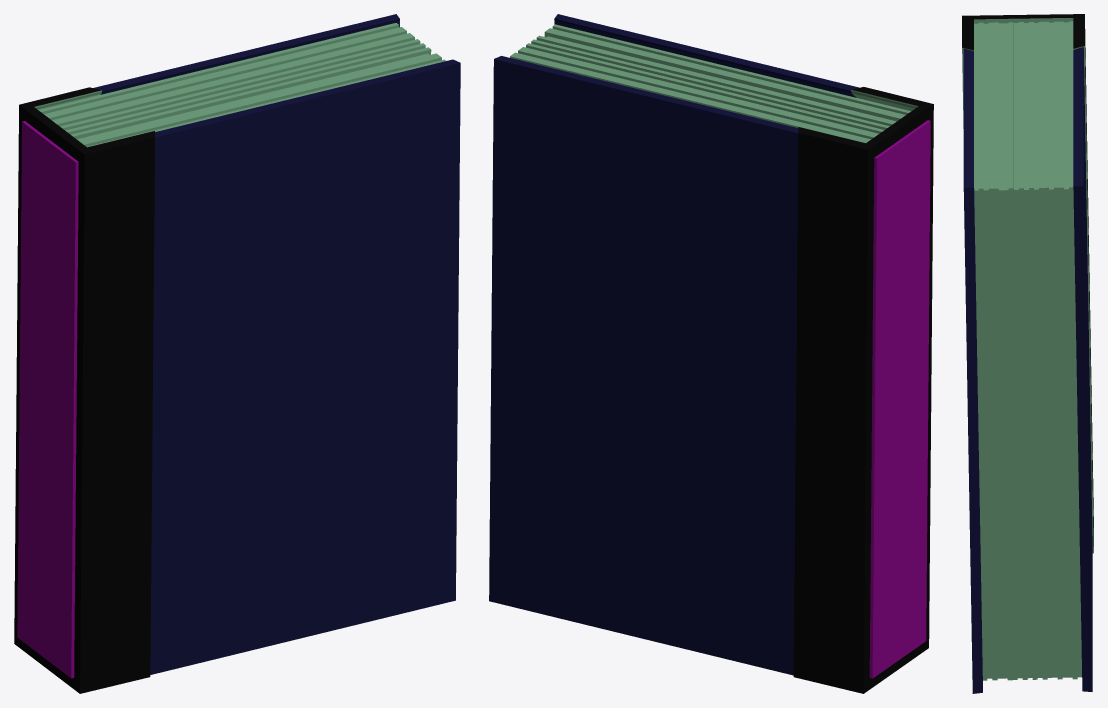
Rendered from DeskBook5.fbx.
The picture shows the model from 3 angles, left to right: view 1: azimuth 30°, elevation 25°; view 2: azimuth 150°, elevation 25°; view 3: azimuth 270°, elevation 25°; orthographic projection. The views are drawn at different scales.
Parts seen in each view (by area): view 1: Book; view 2: Book; view 3: Book.
Boxes of the visible parts, x1,y1,x2,y2 form: Book: [14, 14, 460, 693]; Book: [489, 14, 933, 693]; Book: [962, 14, 1093, 693].
Bounding box in the file's own units: 128 × 175 × 41.17.
